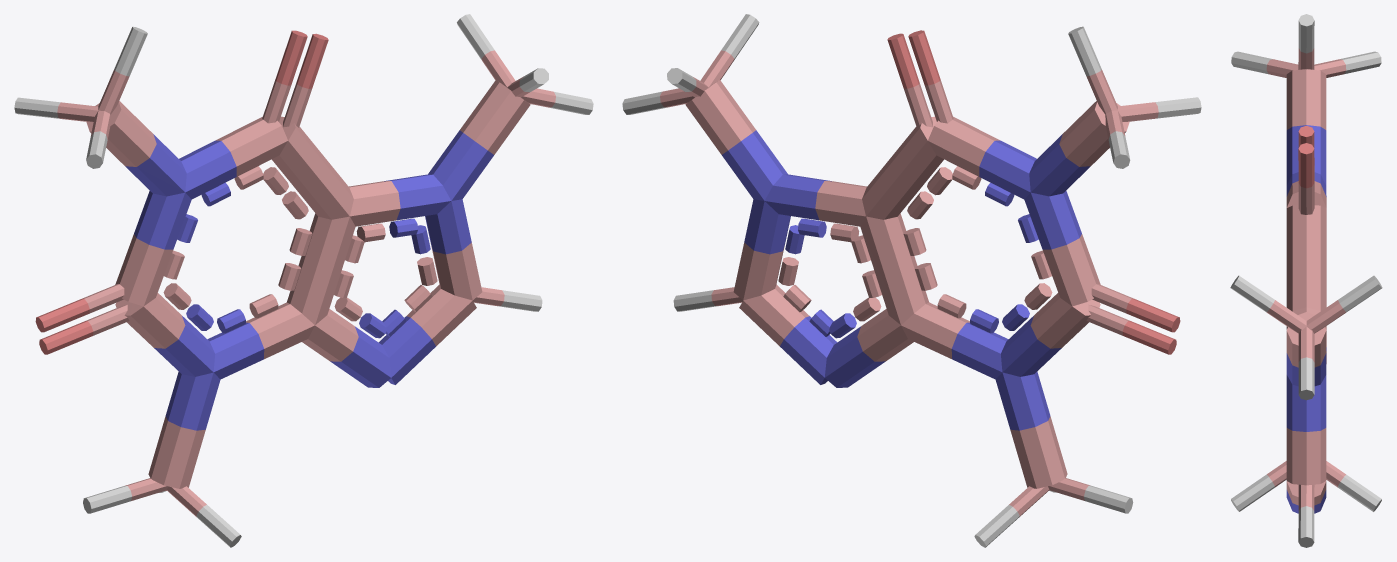
File: caffeine__cartoon-sticks__default.glb
3 views of the same model, side by side, from view 1: azimuth 30°, elevation 25°; view 2: azimuth 150°, elevation 25°; view 3: azimuth 270°, elevation 25° (orthographic). The views are drawn at different scales.
Visible parts, largest first — view 1: Renderer Node; view 2: Renderer Node; view 3: Renderer Node.
Part boxes in pixels (box(x1,y1,x2,y2)): Renderer Node: box(14, 14, 593, 547); Renderer Node: box(622, 14, 1201, 547); Renderer Node: box(1230, 14, 1382, 547).
Size of the model in its own units: 7.4 by 6.49 by 1.91.
